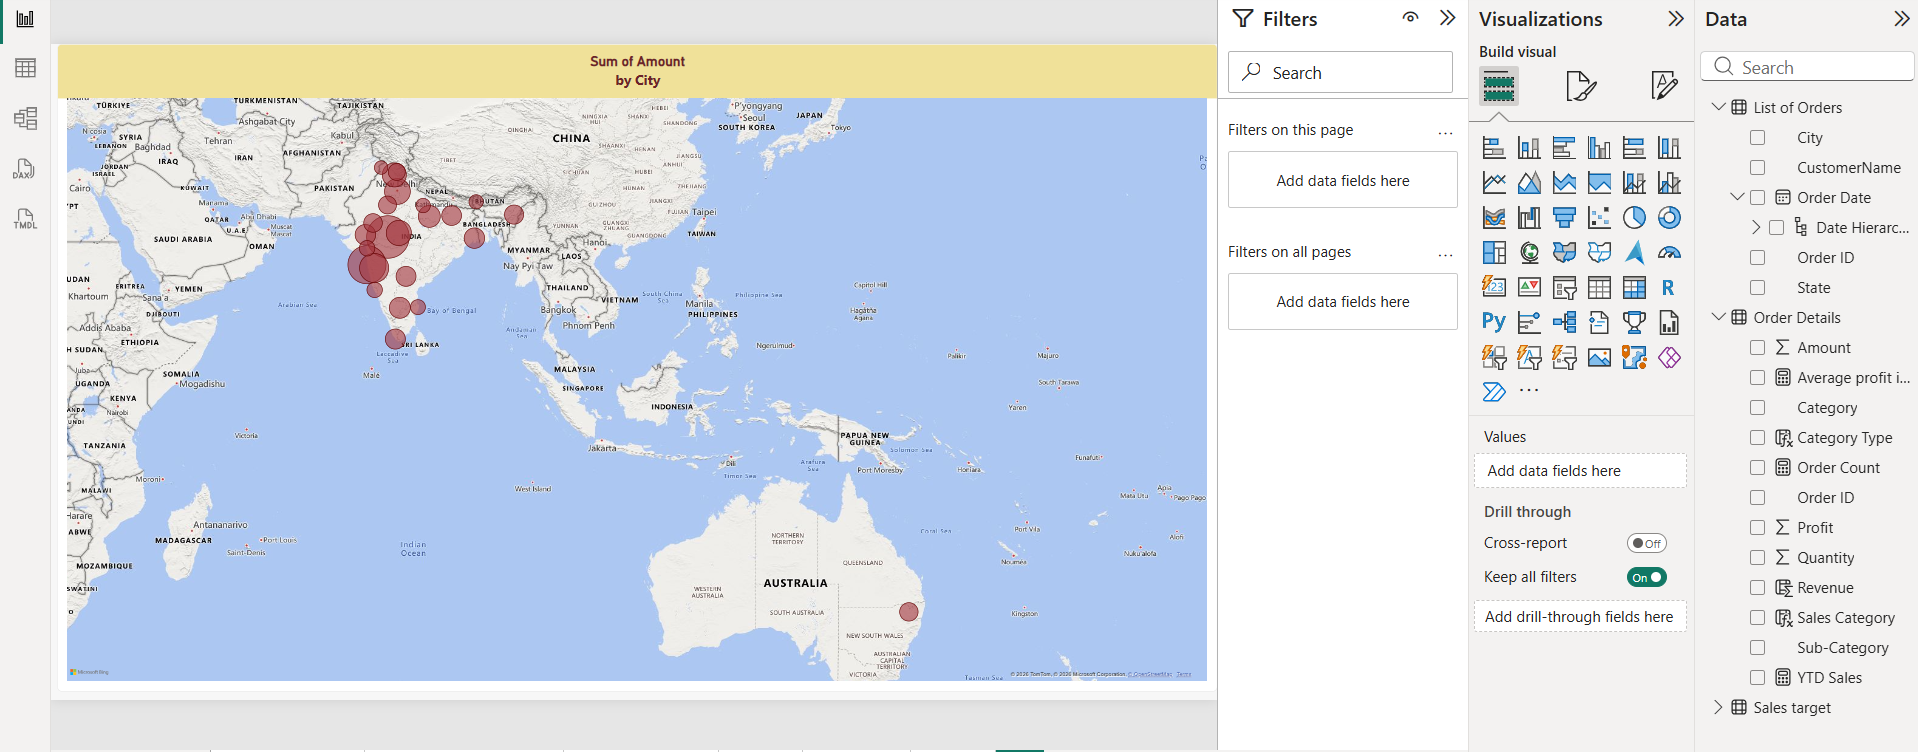

What the dashboard file says about the page in this screenshot:
{"tool":"powerbi","page":{"name":"MAP","canvas":[1920,1080],"ordinal":3},"visuals":[{"type":"map","fields":{"Category":["List of Orders .City"],"Size":["Sum(Order Details .Amount)"]},"box":[10.3,0,1910.1,1066.2],"z":0}]}

Visuals, with their boxes on the page's 1920x1080 design canvas (x1, y1, x2, y2). These are canvas units, not pixel positions in the 1918x752 screenshot, which may show the page scaled, cropped or inside an application window:
map - List of Orders .City x Sum(Order Details .Amount): 10,0,1920,1066
